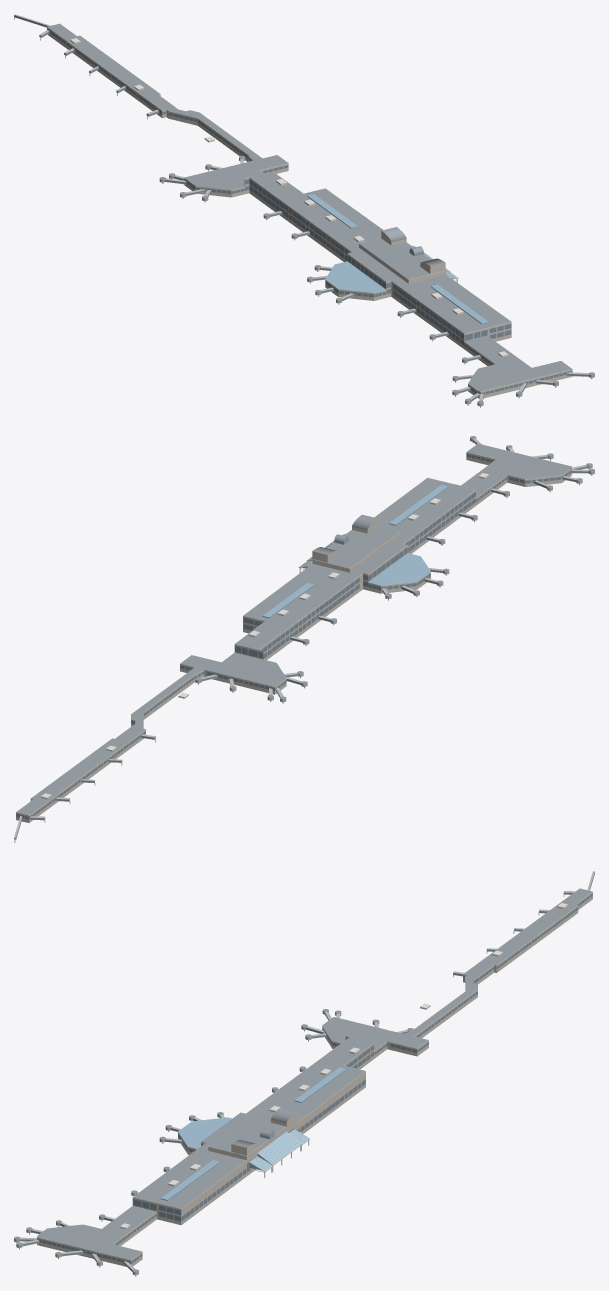
The model's file is tokyo-haneda-terminal-1.detail.glb.
3 views of the same model, one above another, from view 1: azimuth 30°, elevation 25°; view 2: azimuth 150°, elevation 25°; view 3: azimuth 330°, elevation 25° (orthographic). The views are drawn at different scales.
Parts seen in each view (by area): view 1: Haneda Airport Terminal 1; view 2: Haneda Airport Terminal 1; view 3: Haneda Airport Terminal 1.
Boxes of the visible parts, x1,y1,x2,y2 form: Haneda Airport Terminal 1: [14, 14, 594, 407]; Haneda Airport Terminal 1: [14, 436, 594, 842]; Haneda Airport Terminal 1: [14, 871, 594, 1276].
Size of the model in its own units: 208 by 43.5 by 1459.
